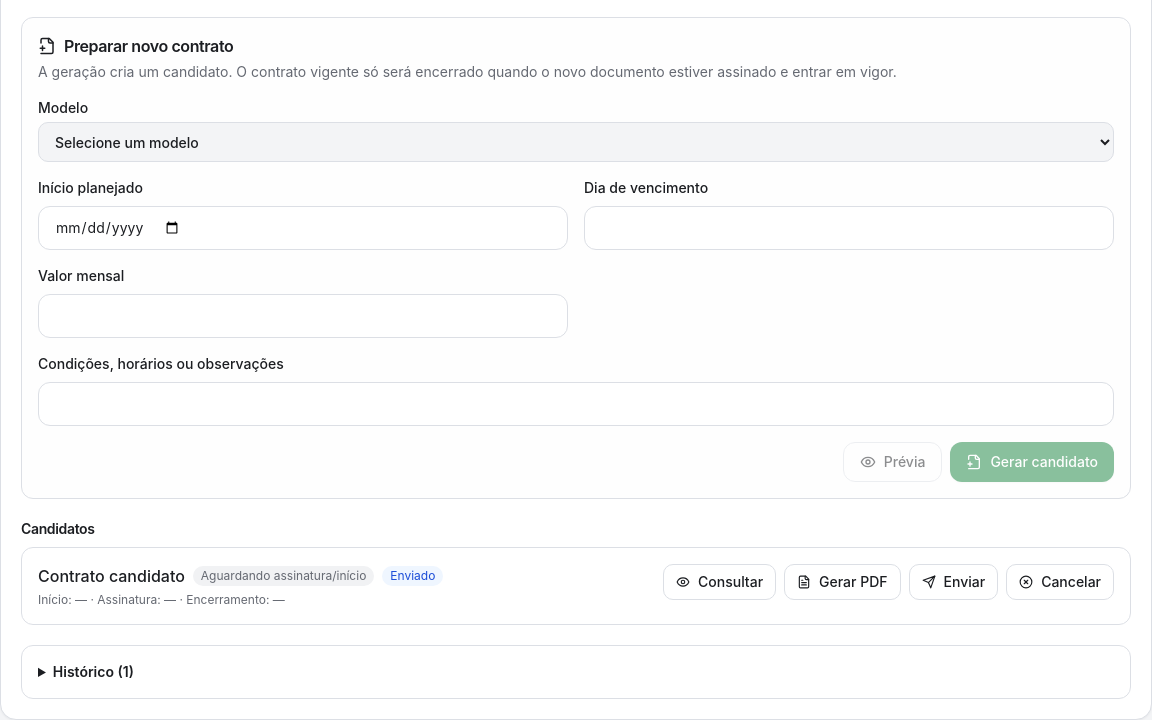
Test: CollaboratorContractControl › distingue declaração legada sem documento eletrônico verificável
(page scrolled)
Click the heading "Histórico (1)". click: click(93, 672)
box: [53,663,134,680]
(page scrolled)
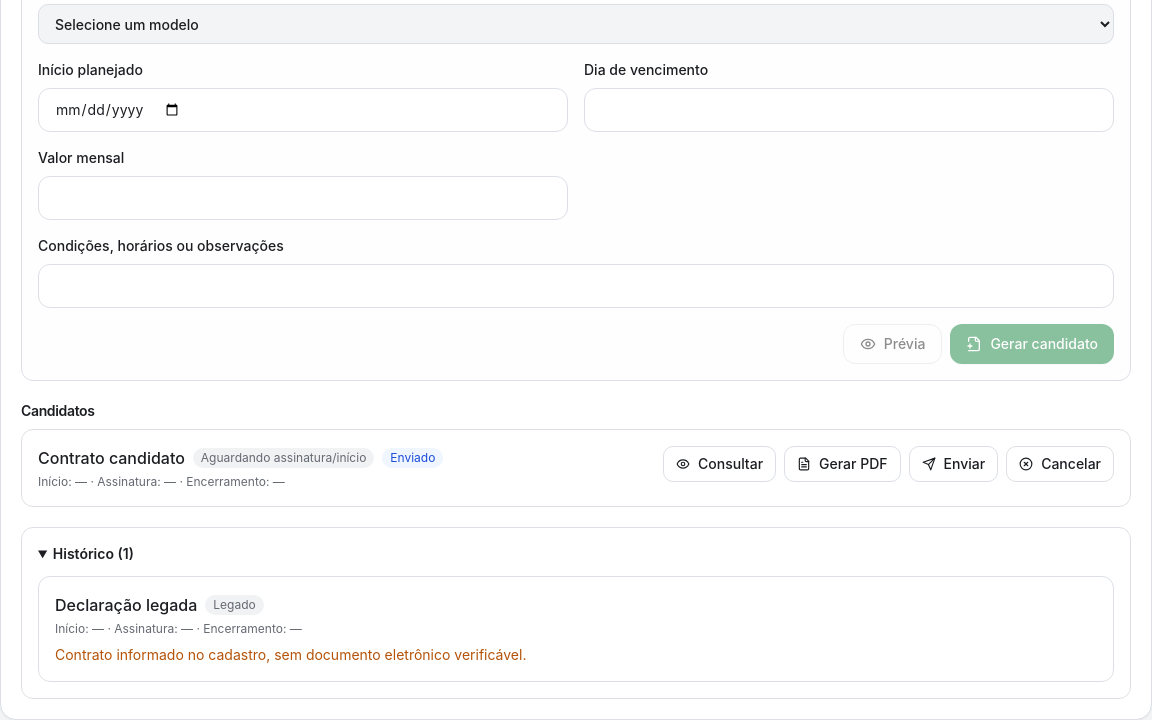
Expected: the text "Contrato informado no cadastro, sem documento eletrônico verificável." is shown, [55,645,526,665]
